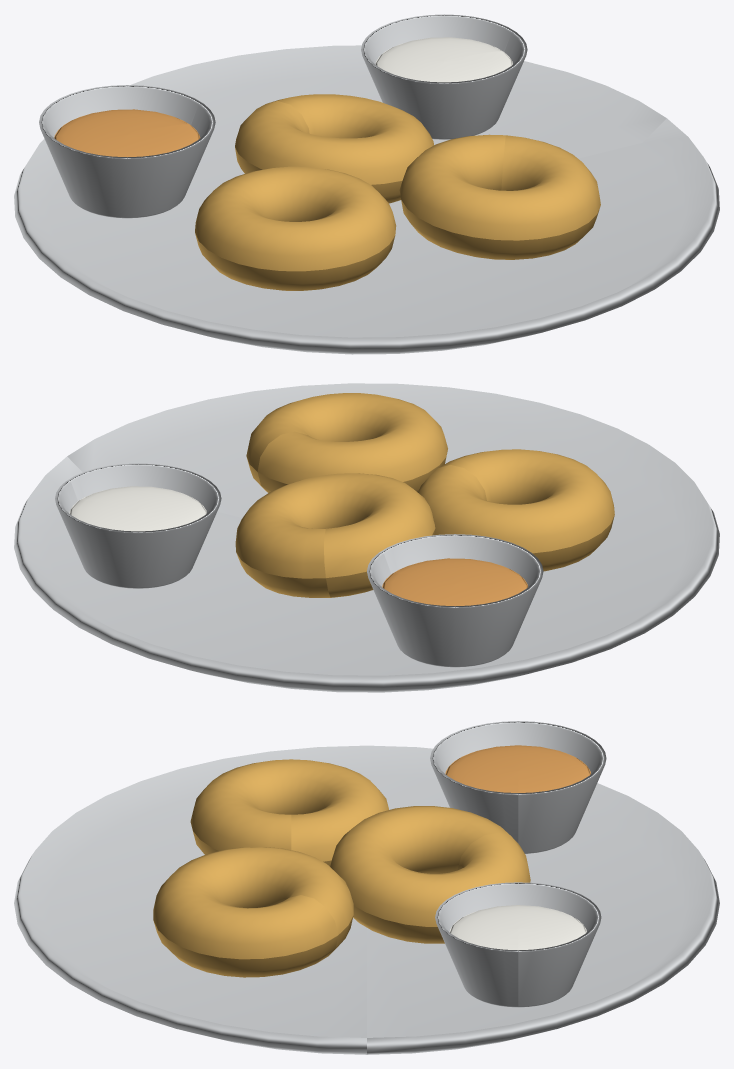
File: medu-vada.glb
3 renders of one model, top to bottom at view 1: azimuth 30°, elevation 25°; view 2: azimuth 150°, elevation 25°; view 3: azimuth 270°, elevation 25°, orthographic.
Visible parts, largest first — view 1: medu-vada; view 2: medu-vada; view 3: medu-vada.
Part boxes in pixels (x1,y1,x2,y2): medu-vada: [14, 14, 719, 354]; medu-vada: [14, 383, 719, 692]; medu-vada: [14, 721, 719, 1054].
Size of the model in its own units: 0.28 by 0.037 by 0.28.
